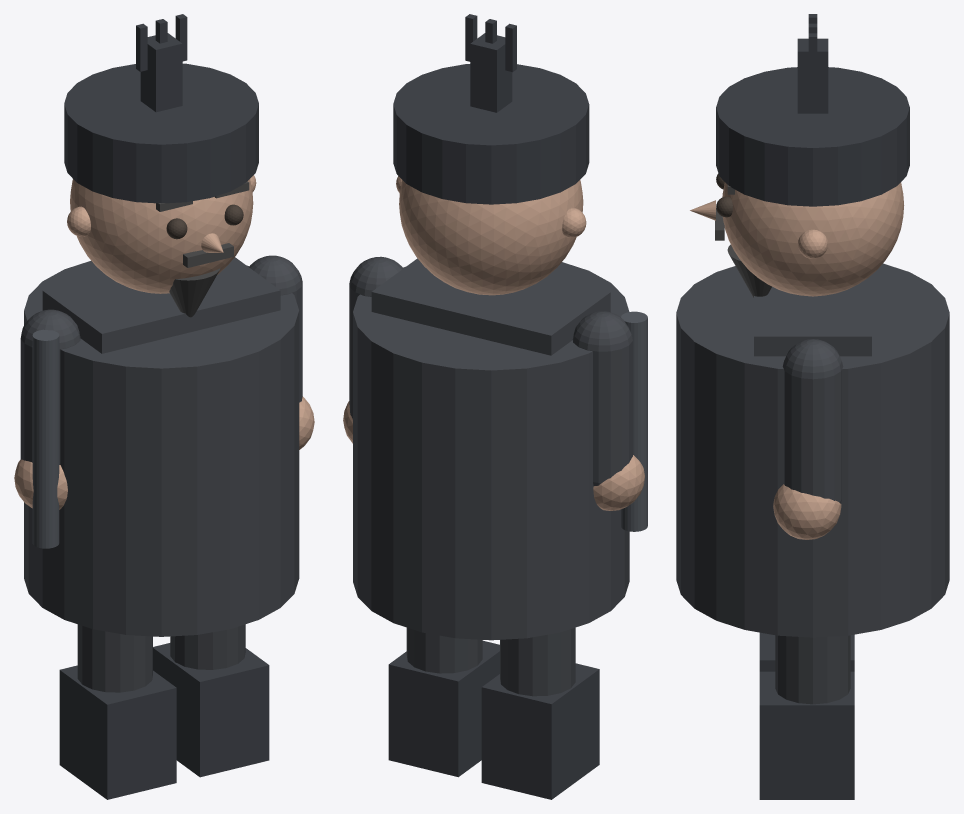
Rendered from sunsik.glb.
3 renders of one model, left to right at view 1: azimuth 30°, elevation 25°; view 2: azimuth 150°, elevation 25°; view 3: azimuth 270°, elevation 25°, orthographic.
Visible parts, largest first — view 1: coat, helmet, boot_L, head, torso, boot_R, baton, leg_L, arm_L, helmet_spike, leg_R, arm_R (+6 smaller); view 2: coat, helmet, head, boot_L, torso, boot_R, arm_L, leg_L, baton, helmet_spike, leg_R, arm_R (+3 smaller); view 3: coat, helmet, head, boot_R, arm_R, torso, leg_R, hand_R, helmet_spike, boot_L, ear_R, beard.
Boxes of the visible parts, x1,y1,x2,y2 form: coat: (24,261,299,636); helmet: (64,63,258,203); boot_L: (59,665,176,799); head: (70,179,253,293); torso: (42,257,280,353); boot_R: (153,643,269,777); baton: (32,329,59,548); leg_L: (77,624,152,692); arm_L: (20,309,80,464); helmet_spike: (140,33,182,112); leg_R: (170,624,245,669); arm_R: (249,255,302,402); coat: (353,262,629,640); helmet: (393,64,589,204); head: (399,180,583,295); boot_L: (481,663,599,799); torso: (371,258,610,355); boot_R: (388,640,499,777); arm_L: (572,311,632,485); leg_L: (500,627,575,696); baton: (621,311,647,531); helmet_spike: (470,33,512,112); leg_R: (406,627,482,673); arm_R: (349,256,403,419); coat: (676,263,949,637); helmet: (716,67,909,206); head: (722,182,904,296); boot_R: (759,671,854,799); arm_R: (782,339,843,503); torso: (754,275,871,356); leg_R: (775,635,850,704); hand_R: (773,484,841,539); helmet_spike: (797,38,828,113); boot_L: (759,632,854,671); ear_R: (798,229,827,258); beard: (727,244,771,297).
Bounding box in the file's own units: 1.76 × 4.27 × 1.44.
